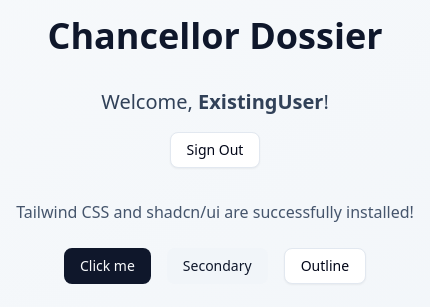
Test case: App Component › should sign out a user and clear the session
Step 1. Click the button "Sign Out" → (215, 150), box [170,132,260,168]
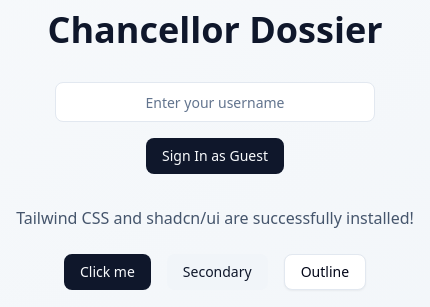
Expected: the field with placeholder "Enter your username" is shown, [55,82,375,122]
